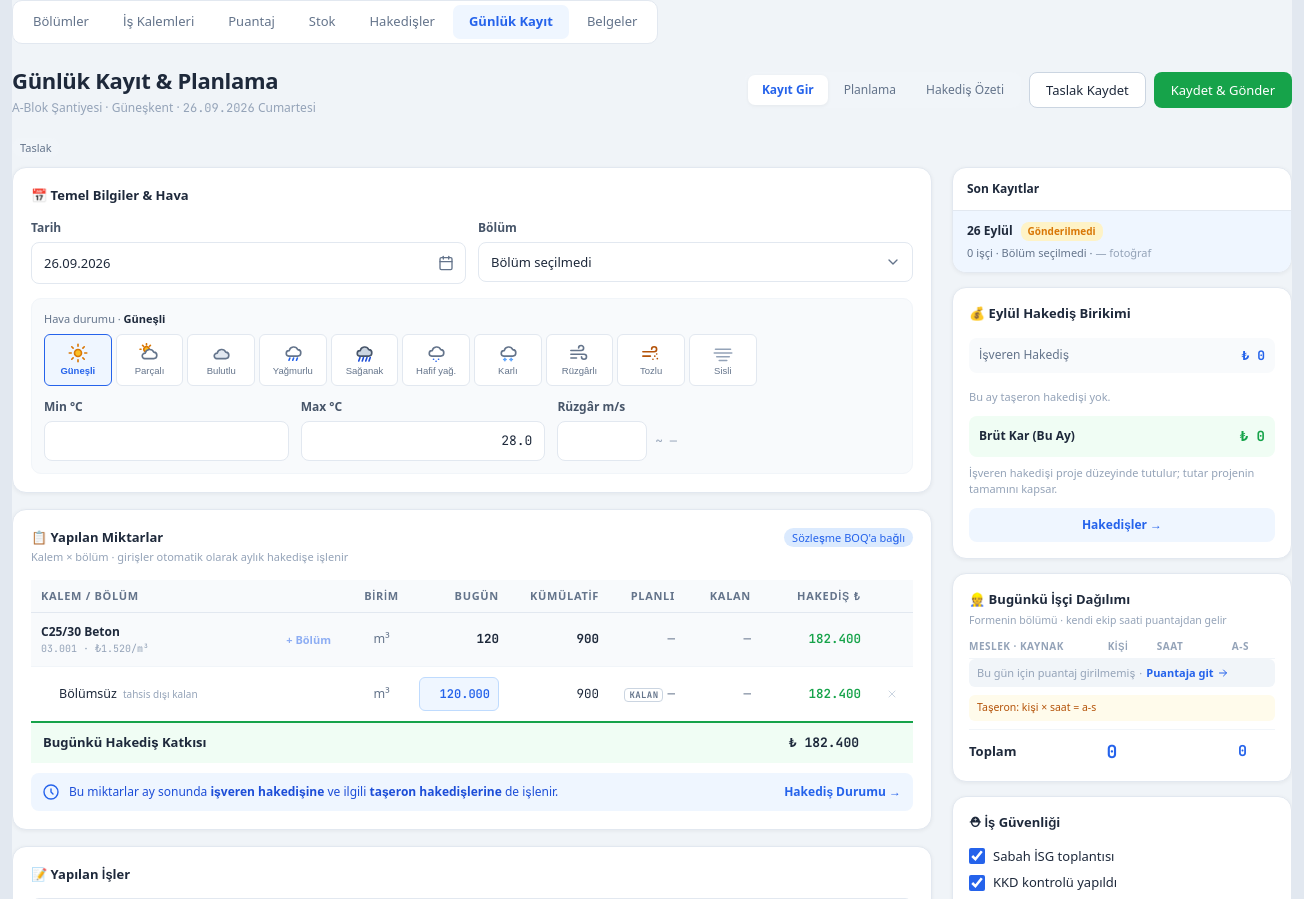
SiteDiaryEntryView · kaydetme akışı › kaydetme kırılırsa submit HİÇ çağrılmaz
Step 1. Click the button "Kaydet & Gönder" → coordinates (1223, 90), box [1154,72,1292,108]
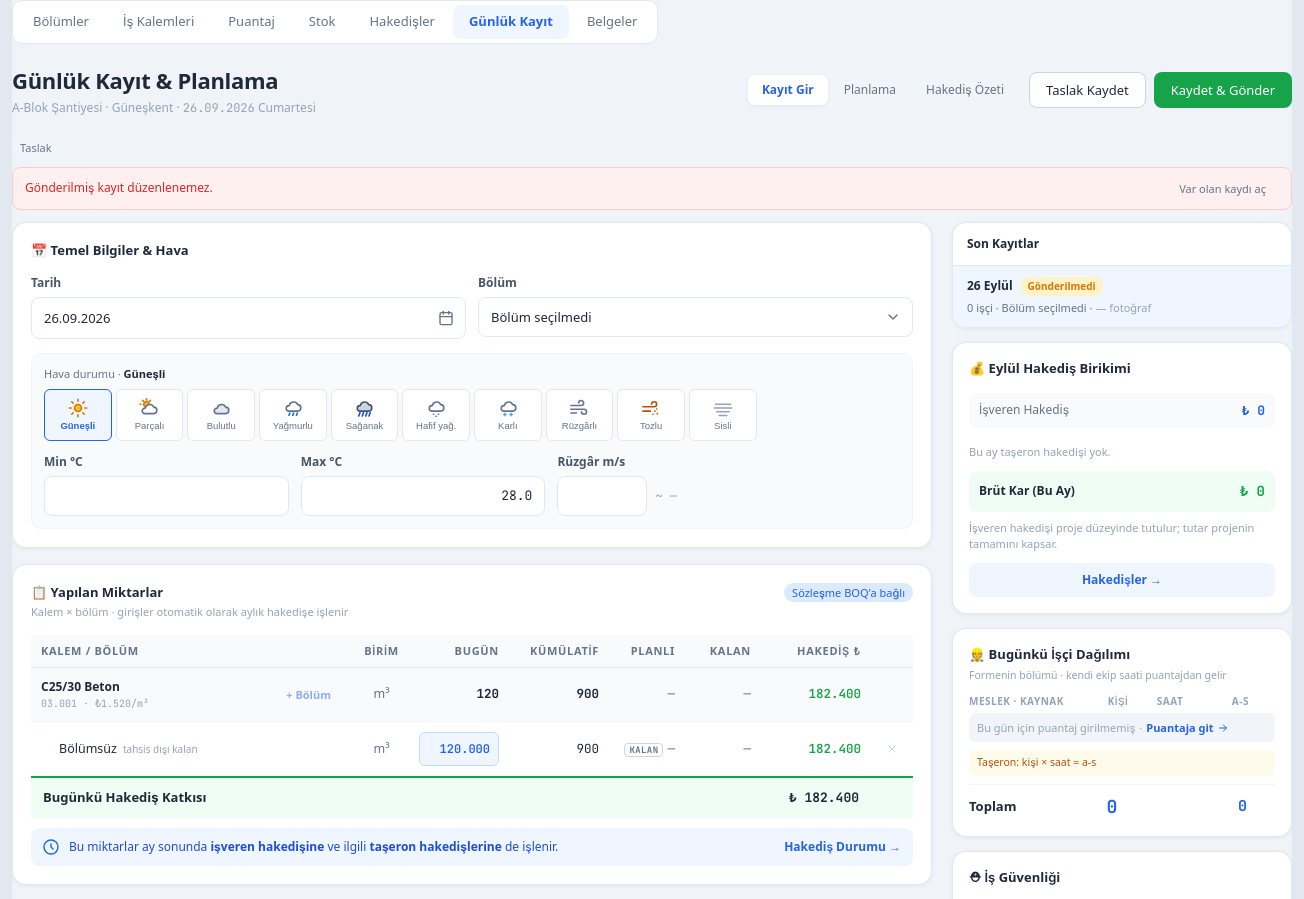
expect the text "Gönderilmiş kayıt düzenlenemez." is shown: met, box [25,179,213,197]
